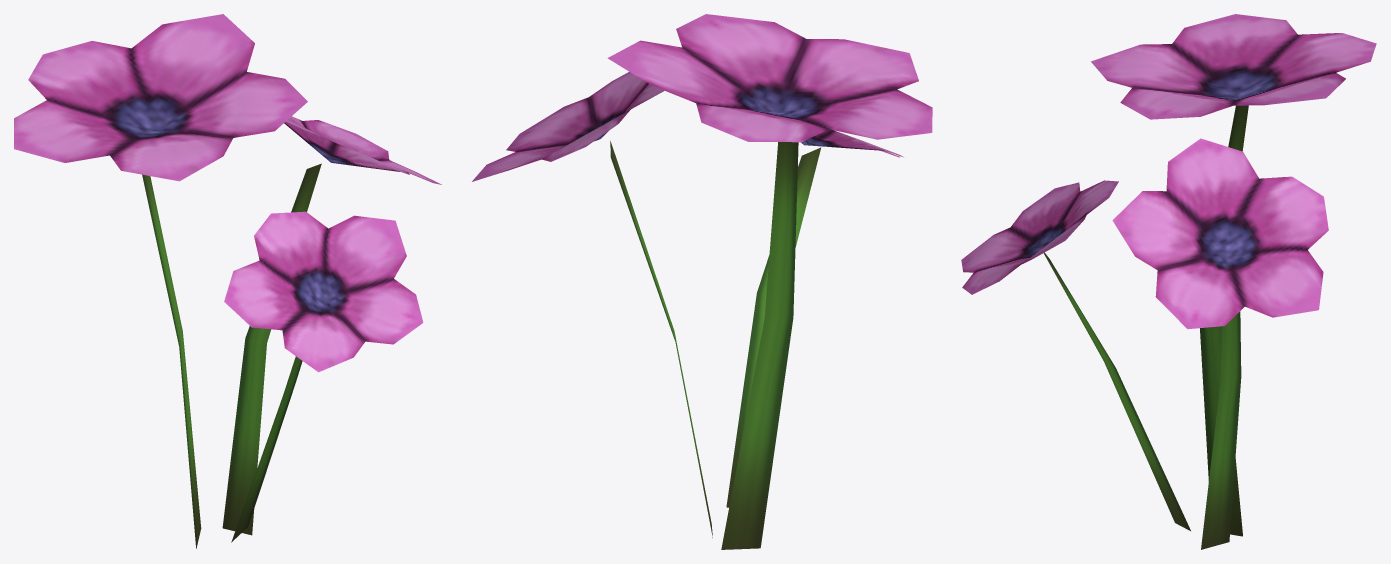
Rendered from Garden_flower_lightpurple.fbx.
3 renders of one model, left to right at view 1: azimuth 30°, elevation 25°; view 2: azimuth 150°, elevation 25°; view 3: azimuth 270°, elevation 25°, orthographic. The views are drawn at different scales.
Visible parts, largest first — view 1: Garden_flower_lightpurple; view 2: Garden_flower_lightpurple; view 3: Garden_flower_lightpurple.
Part boxes in pixels (x1=…): Garden_flower_lightpurple: x1=14, y1=14, x2=441, y2=548; Garden_flower_lightpurple: x1=472, y1=14, x2=932, y2=549; Garden_flower_lightpurple: x1=961, y1=14, x2=1376, y2=549.
Size of the model in its own units: 31.6 by 35.32 by 28.04.
1 material, 1 textured.
